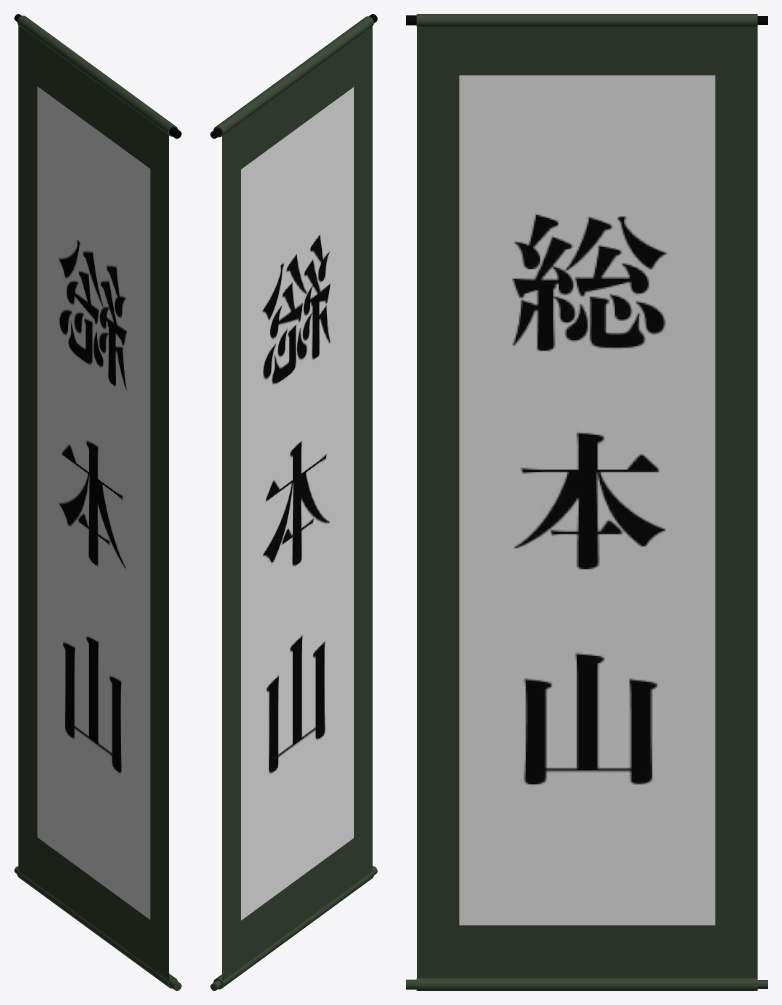
File: kakejiku-meshopt.glb
The picture shows the model from 3 angles, left to right: view 1: azimuth 30°, elevation 25°; view 2: azimuth 150°, elevation 25°; view 3: azimuth 270°, elevation 25°; orthographic projection. The views are drawn at different scales.
Size of the model in its own units: 0.0763 by 6.32 by 2.12.
3 materials, 1 textured.
